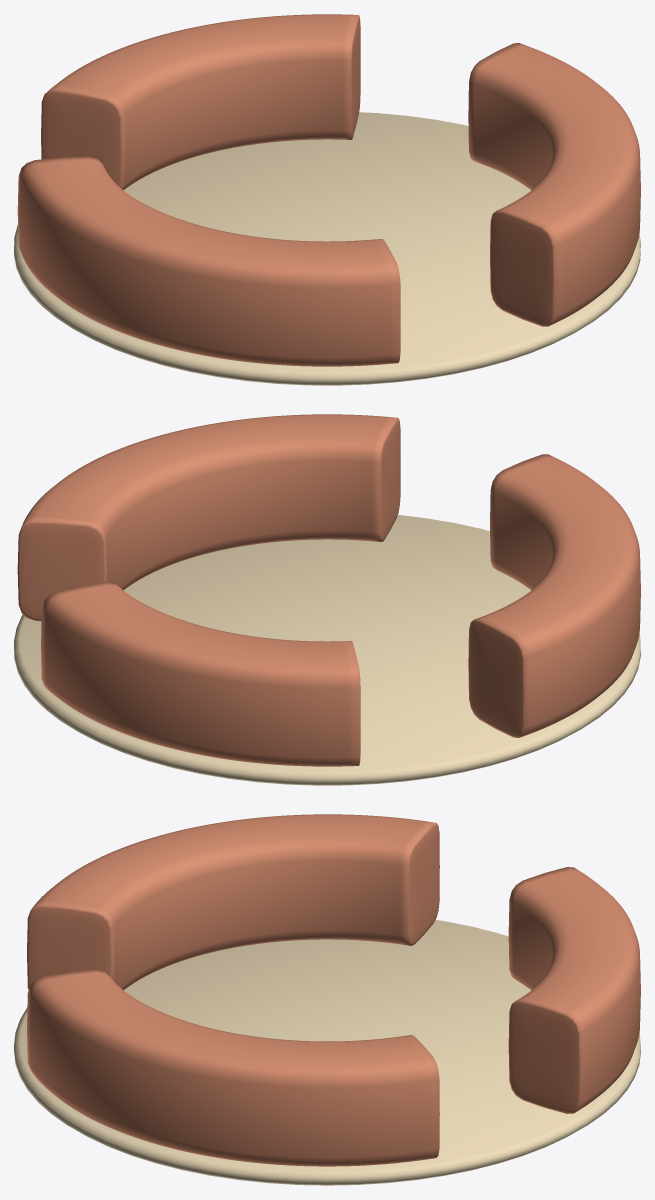
Rendered from building_bowl_v02.glb.
The picture shows the model from 3 angles, top to bottom: view 1: azimuth 30°, elevation 25°; view 2: azimuth 150°, elevation 25°; view 3: azimuth 270°, elevation 25°; orthographic projection.
Parts seen in each view (by area): view 1: bowl_floor, bowl_rim_b, bowl_rim_a, bowl_rim_c; view 2: bowl_floor, bowl_rim_c, bowl_rim_a, bowl_rim_b; view 3: bowl_floor, bowl_rim_c, bowl_rim_b, bowl_rim_a.
Part boxes in pixels (left/top/right/bottom): bowl_floor: left=14, top=112, right=640, bottom=385; bowl_rim_b: left=17, top=156, right=400, bottom=366; bowl_rim_a: left=41, top=14, right=360, bottom=190; bowl_rim_c: left=468, top=43, right=640, bottom=326; bowl_floor: left=14, top=515, right=640, bottom=785; bowl_rim_c: left=17, top=414, right=400, bottom=621; bowl_rim_a: left=41, top=582, right=360, bottom=766; bowl_rim_b: left=468, top=454, right=640, bottom=737; bowl_floor: left=14, top=920, right=640, bottom=1185; bowl_rim_c: left=27, top=969, right=439, bottom=1166; bowl_rim_b: left=27, top=814, right=439, bottom=990; bowl_rim_a: left=508, top=867, right=640, bottom=1113.
Bounding box in the file's own units: 7 × 1.43 × 7.
